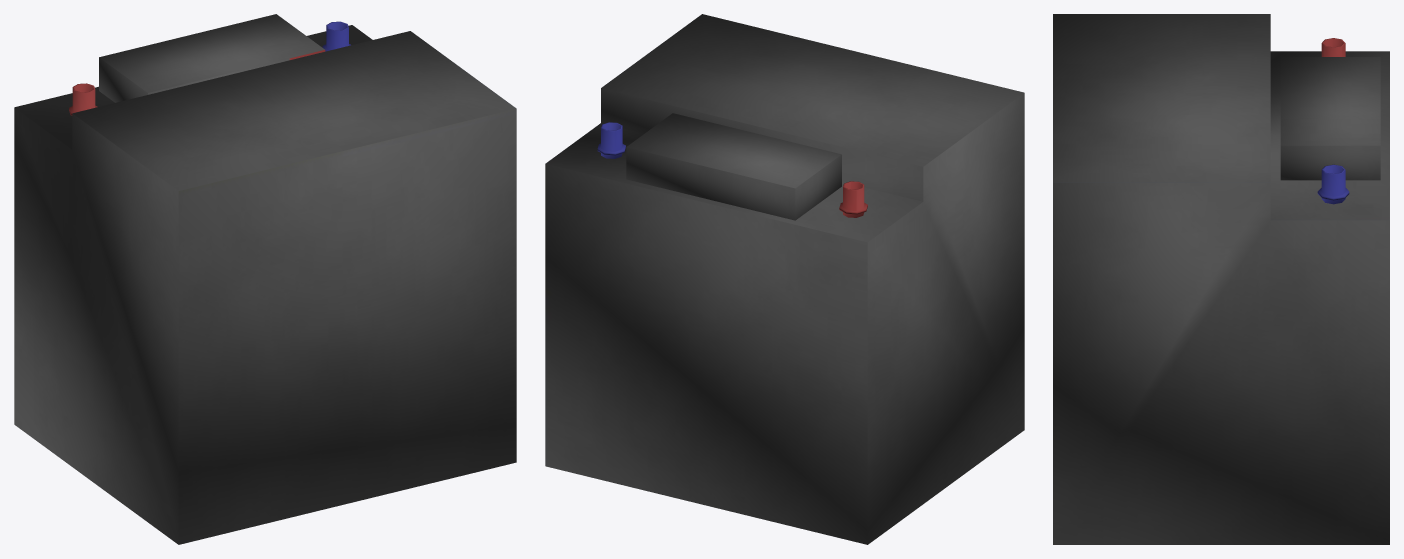
Rendered from battery.fbx.
The picture shows the model from 3 angles, left to right: view 1: azimuth 30°, elevation 25°; view 2: azimuth 150°, elevation 25°; view 3: azimuth 270°, elevation 25°; orthographic projection. The views are drawn at different scales.
Parts seen in each view (by area): view 1: Cylinder; view 2: Cylinder; view 3: Cylinder.
Boxes of the visible parts, bbox=[...] form: Cylinder: bbox=[14, 14, 516, 544]; Cylinder: bbox=[545, 14, 1024, 544]; Cylinder: bbox=[1053, 14, 1389, 544].
Size of the model in its own units: 2 by 2 by 1.69.
1 material, 1 textured.
